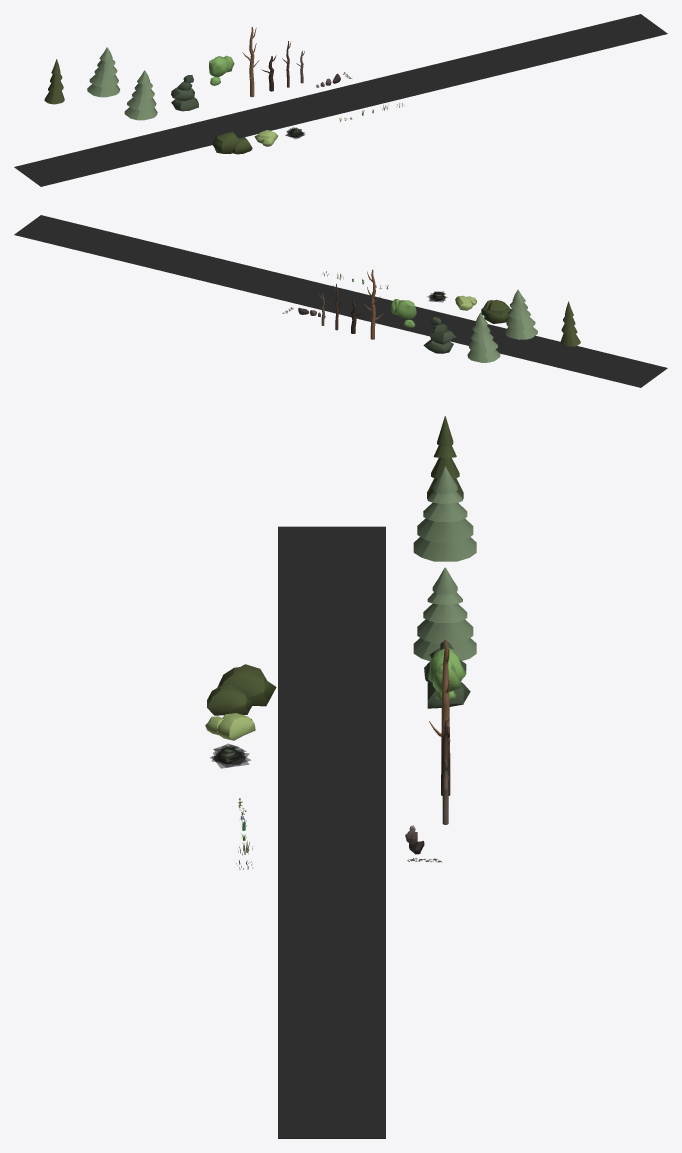
File: OutDoors_Foliage 1.fbx
The picture shows the model from 3 angles, top to bottom: view 1: azimuth 30°, elevation 25°; view 2: azimuth 150°, elevation 25°; view 3: azimuth 270°, elevation 25°; orthographic projection. The views are drawn at different scales.
Visible parts, largest first — view 1: Road_LeftSide, Road_RightSide, Tree_Fern_Short_Leaves, Tree_Fern_Long_LongLeaves, Tree_Fern_Long_ShortLeaves, Bushes_Big2, Tree_Fern_Long_BareShape, Tree_Puffs_Leaves_MATT, Tree_Thick_Leaves1; view 2: Road_LeftSide, Road_RightSide, Tree_Fern_Short_Leaves, Tree_Fern_Long_LongLeaves, Tree_Fern_Long_ShortLeaves, Bushes_Big2, Tree_Fern_Long_BareShape, Tree_Puffs_Leaves_MATT, Tree_Thick_Leaves1; view 3: Road_RightSide, Road_LeftSide, Tree_Fern_Long_LongLeaves, Tree_Fern_Short_Leaves, Bushes_Big2, Tree_Fern_Long_ShortLeaves, Bushes_Big1.
Part boxes in pixels (x1=…): Road_LeftSide: x1=14, y1=14, x2=653, y2=176; Road_RightSide: x1=28, y1=24, x2=667, y2=186; Tree_Fern_Short_Leaves: x1=124, y1=70, x2=157, y2=120; Tree_Fern_Long_LongLeaves: x1=87, y1=47, x2=120, y2=97; Tree_Fern_Long_ShortLeaves: x1=44, y1=59, x2=64, y2=104; Bushes_Big2: x1=212, y1=131, x2=239, y2=153; Tree_Fern_Long_BareShape: x1=242, y1=27, x2=259, y2=97; Tree_Puffs_Leaves_MATT: x1=209, y1=56, x2=228, y2=77; Tree_Thick_Leaves1: x1=171, y1=97, x2=198, y2=111; Road_LeftSide: x1=14, y1=225, x2=653, y2=387; Road_RightSide: x1=28, y1=215, x2=667, y2=377; Tree_Fern_Short_Leaves: x1=467, y1=312, x2=500, y2=362; Tree_Fern_Long_LongLeaves: x1=505, y1=289, x2=537, y2=339; Tree_Fern_Long_ShortLeaves: x1=560, y1=301, x2=580, y2=346; Bushes_Big2: x1=484, y1=299, x2=510, y2=323; Tree_Fern_Long_BareShape: x1=364, y1=269, x2=383, y2=339; Tree_Puffs_Leaves_MATT: x1=394, y1=300, x2=416, y2=319; Tree_Thick_Leaves1: x1=423, y1=339, x2=453, y2=353; Road_RightSide: x1=278, y1=526, x2=331, y2=1138; Road_LeftSide: x1=332, y1=526, x2=385, y2=1138; Tree_Fern_Long_LongLeaves: x1=413, y1=466, x2=476, y2=561; Tree_Fern_Short_Leaves: x1=413, y1=567, x2=476, y2=660; Bushes_Big2: x1=217, y1=664, x2=276, y2=706; Tree_Fern_Long_ShortLeaves: x1=427, y1=416, x2=463, y2=498; Bushes_Big1: x1=207, y1=685, x2=252, y2=715.
Bounding box in the file's own units: 15576 × 2021 × 2922.
